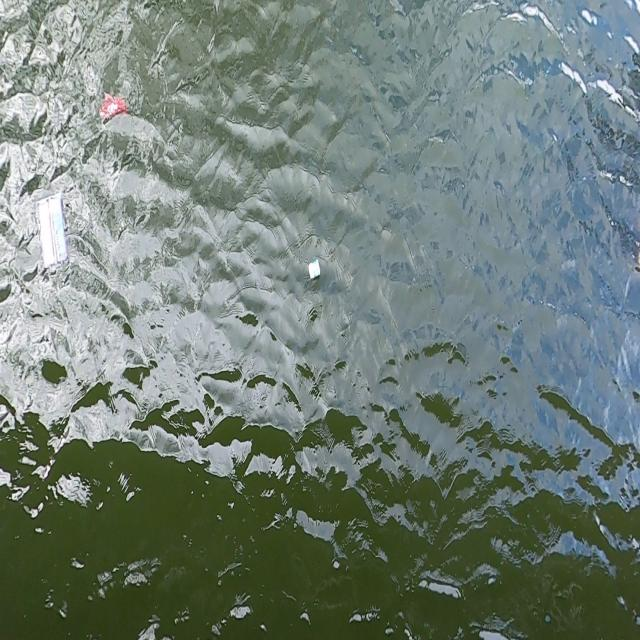Non plastique: (303, 256, 323, 285)
Sac plastique: (32, 186, 75, 284)
